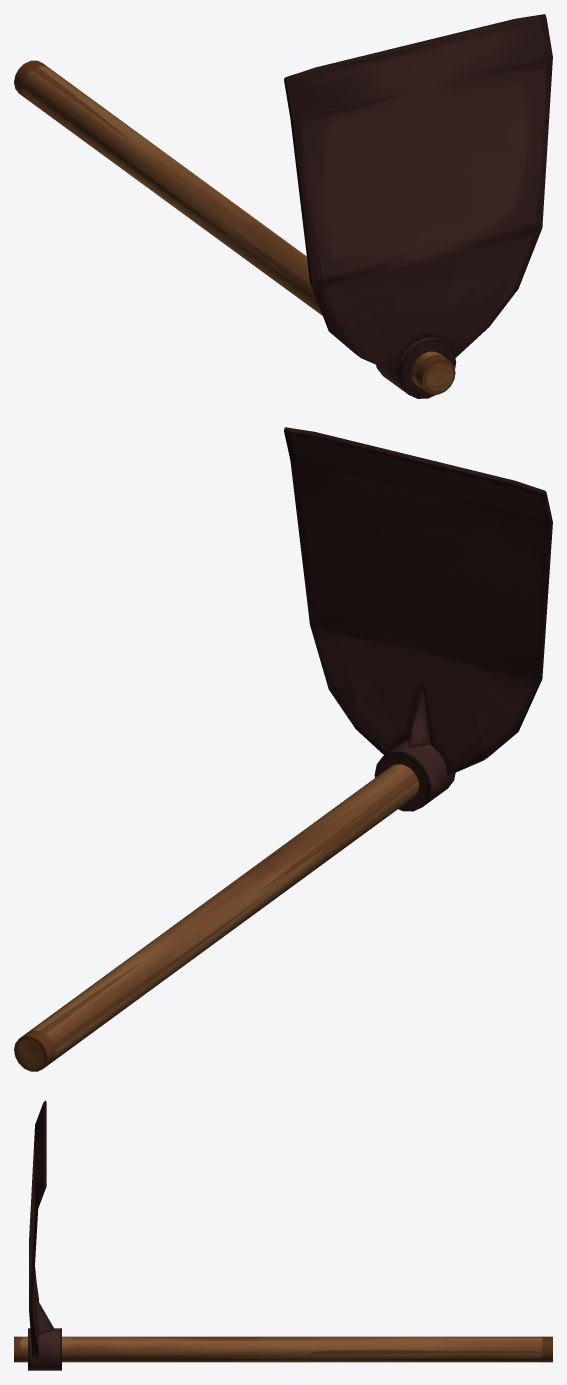
File: Hoe.fbx
3 views of the same model, one above another, from view 1: azimuth 30°, elevation 25°; view 2: azimuth 150°, elevation 25°; view 3: azimuth 270°, elevation 25° (orthographic). The views are drawn at different scales.
Parts seen in each view (by area): view 1: hoe, handle; view 2: hoe, handle; view 3: handle, hoe.
Boxes of the visible parts, x1,y1,x2,y2 form: hoe: (284, 14, 552, 398); handle: (14, 60, 455, 394); hoe: (284, 427, 552, 811); handle: (14, 764, 419, 1071); handle: (14, 1336, 552, 1362); hoe: (28, 1100, 61, 1370).
Bounding box in the file's own units: 46.6 × 59.13 × 127.
Materials: 2 (2 with a texture image).
